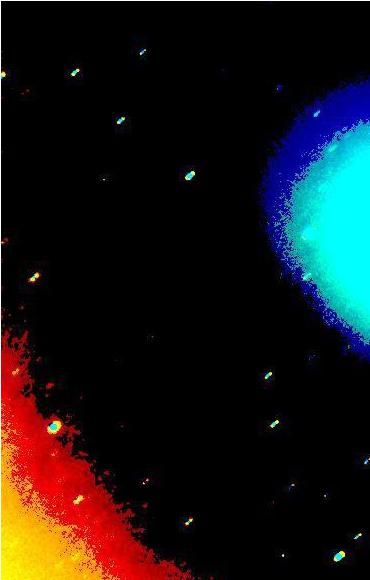star: (237, 535, 267, 565)
